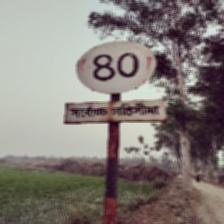Speed-limit: (64, 39, 166, 126)
